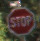stopsign: (7, 7, 35, 35)
